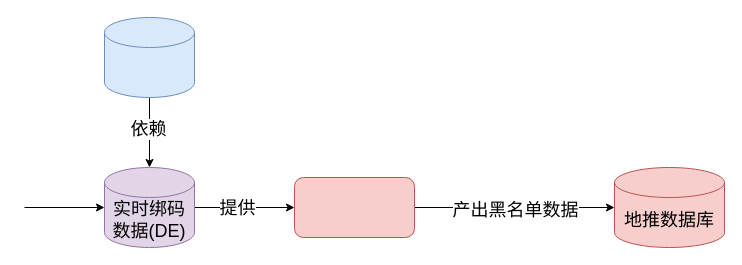
Image size: 742x265. Some labels were removed from this diagram. Each missing label, with the centre of its shape:
"地推系统" belongs at (354,207).
"风控数据" belongs at (149,57).
